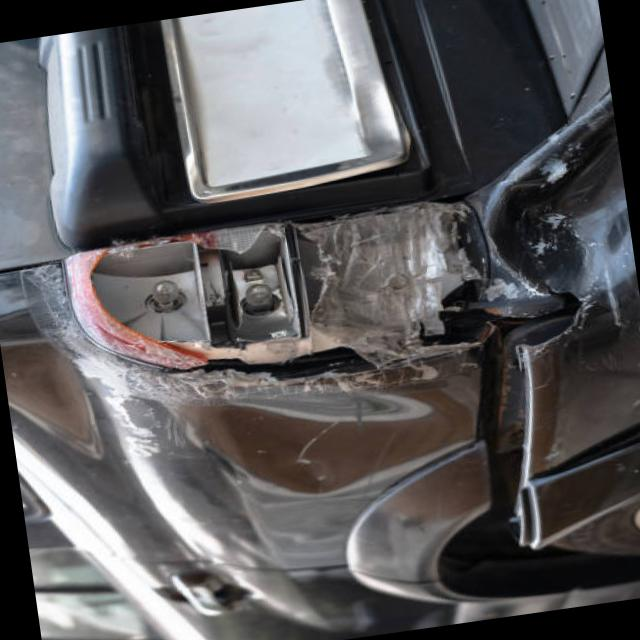Crack: (479, 316, 571, 545)
Dent: (211, 352, 479, 496), (484, 92, 635, 317), (579, 338, 640, 452)
Scratch: (79, 344, 215, 456), (505, 122, 597, 271), (221, 361, 438, 398), (571, 261, 640, 348), (36, 256, 89, 359)
Shatter: (64, 201, 526, 370)
